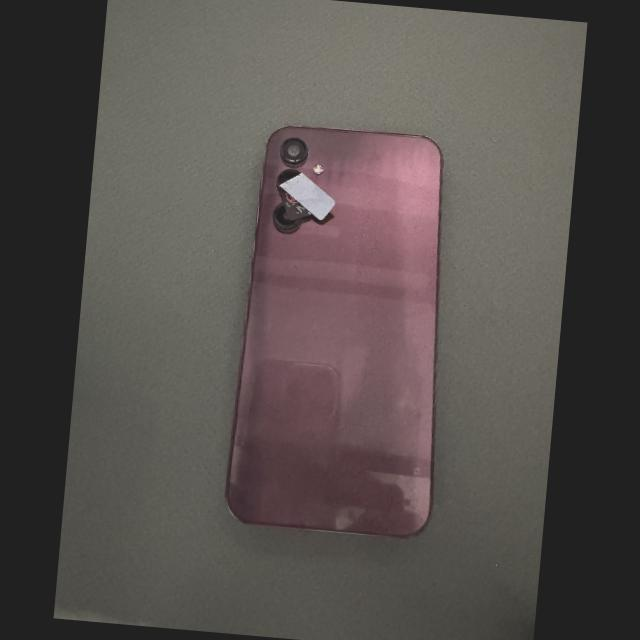lens: (273, 204, 301, 231), (277, 170, 299, 189)
phone: (225, 125, 443, 537)
sticker: (278, 172, 335, 219)
